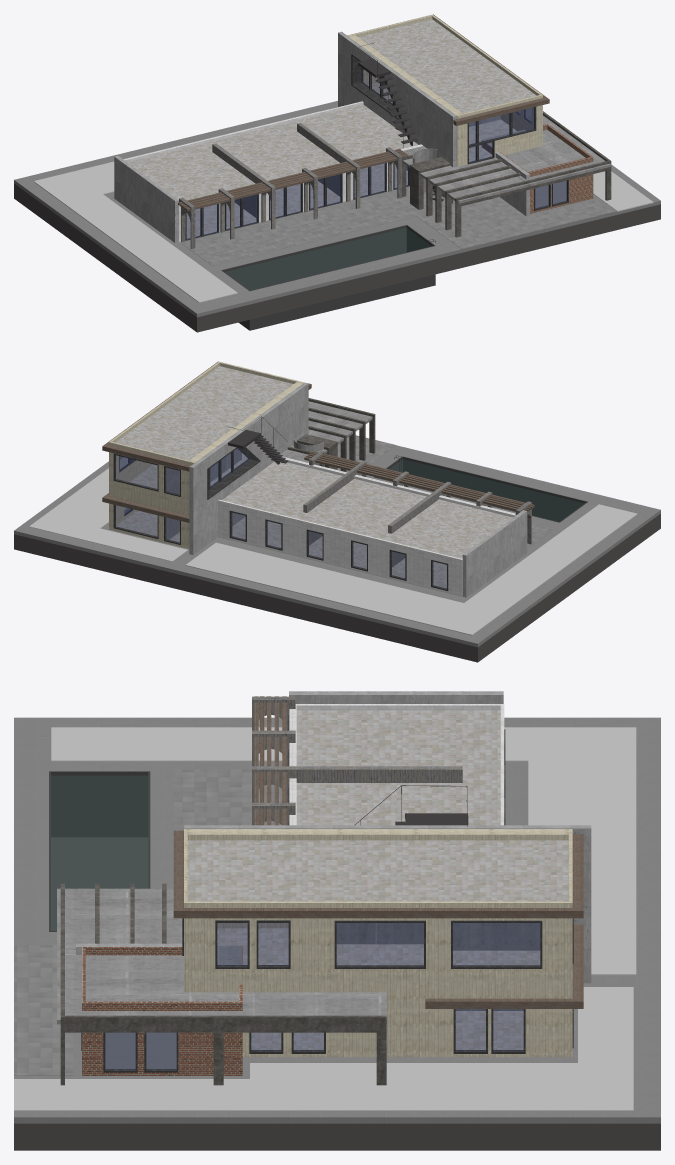
3 views of the same model, one above another, from view 1: azimuth 30°, elevation 25°; view 2: azimuth 150°, elevation 25°; view 3: azimuth 270°, elevation 25° (orthographic). The views are drawn at different scales.
Parts seen in each view (by area): view 1: Box007_19 - Glass (Thin wall)_0, Rectangle005_Metal_0, Line003_17 - Old Copper #1_0, Box026_14 - Polished Aluminum_0, Rectangle010_Metal_0, Rectangle015_15 - Glossy Plastic_0, Line013_18 - Rubber_0, Box049_06 - Default_0, Line001_12 - Car Paint_0, sy006_01 - Default_0, Rectangle006_Ceramic_0, Box050_06 - Default_0 (+17 smaller); view 2: Box007_19 - Glass (Thin wall)_0, Line013_18 - Rubber_0, Rectangle005_Metal_0, Box026_14 - Polished Aluminum_0, Rectangle001_Solid Glass_0, Rectangle010_Metal_0, Box049_06 - Default_0, Rectangle006_Ceramic_0, Line014_18 - Rubber_0, Rectangle015_15 - Glossy Plastic_0, Box050_06 - Default_0, sy006_01 - Default_0 (+19 smaller); view 3: Box007_19 - Glass (Thin wall)_0, Rectangle006_Ceramic_0, Line014_18 - Rubber_0, Line013_18 - Rubber_0, Rectangle010_Metal_0, Rectangle005_Metal_0, Box026_14 - Polished Aluminum_0, Line001_12 - Car Paint_0, Line003_17 - Old Copper #1_0, sy006_01 - Default_0, Rectangle015_15 - Glossy Plastic_0, Rectangle013_Wall Paint_0 (+27 smaller).
Boxes of the visible parts, left/top/right/bottom form: Box007_19 - Glass (Thin wall)_0: left=14, top=101, right=660, bottom=317; Rectangle005_Metal_0: left=127, top=104, right=418, bottom=200; Line003_17 - Old Copper #1_0: left=182, top=188, right=612, bottom=265; Box026_14 - Polished Aluminum_0: left=14, top=183, right=660, bottom=332; Rectangle010_Metal_0: left=358, top=19, right=536, bottom=113; Rectangle015_15 - Glossy Plastic_0: left=221, top=225, right=435, bottom=330; Line013_18 - Rubber_0: left=33, top=111, right=320, bottom=302; Box049_06 - Default_0: left=338, top=31, right=456, bottom=203; Line001_12 - Car Paint_0: left=403, top=108, right=611, bottom=203; sy006_01 - Default_0: left=402, top=111, right=611, bottom=237; Rectangle006_Ceramic_0: left=347, top=14, right=542, bottom=166; Box050_06 - Default_0: left=114, top=156, right=178, bottom=242; Box007_19 - Glass (Thin wall)_0: left=14, top=445, right=660, bottom=647; Line013_18 - Rubber_0: left=185, top=504, right=637, bottom=635; Rectangle005_Metal_0: left=222, top=461, right=512, bottom=558; Box026_14 - Polished Aluminum_0: left=14, top=513, right=660, bottom=662; Rectangle001_Solid Glass_0: left=218, top=456, right=515, bottom=596; Rectangle010_Metal_0: left=115, top=366, right=293, bottom=460; Box049_06 - Default_0: left=189, top=382, right=308, bottom=554; Rectangle006_Ceramic_0: left=109, top=361, right=304, bottom=548; Line014_18 - Rubber_0: left=29, top=457, right=187, bottom=561; Rectangle015_15 - Glossy Plastic_0: left=374, top=456, right=588, bottom=522; Box050_06 - Default_0: left=462, top=510, right=527, bottom=597; sy006_01 - Default_0: left=128, top=398, right=375, bottom=472; Box007_19 - Glass (Thin wall)_0: left=14, top=717, right=660, bottom=1123; Rectangle006_Ceramic_0: left=184, top=829, right=572, bottom=1057; Line014_18 - Rubber_0: left=14, top=987, right=633, bottom=1110; Line013_18 - Rubber_0: left=51, top=727, right=636, bottom=975; Rectangle010_Metal_0: left=187, top=840, right=568, bottom=901; Rectangle005_Metal_0: left=296, top=710, right=500, bottom=825; Box026_14 - Polished Aluminum_0: left=14, top=1123, right=660, bottom=1150; Line001_12 - Car Paint_0: left=57, top=888, right=386, bottom=1024; Line003_17 - Old Copper #1_0: left=14, top=769, right=280, bottom=1075; sy006_01 - Default_0: left=60, top=883, right=386, bottom=1085; Rectangle015_15 - Glossy Plastic_0: left=49, top=771, right=150, bottom=931; Rectangle013_Wall Paint_0: left=82, top=946, right=242, bottom=1075.
Bounding box in the file's own units: 49.92 × 14.65 × 34.14.
